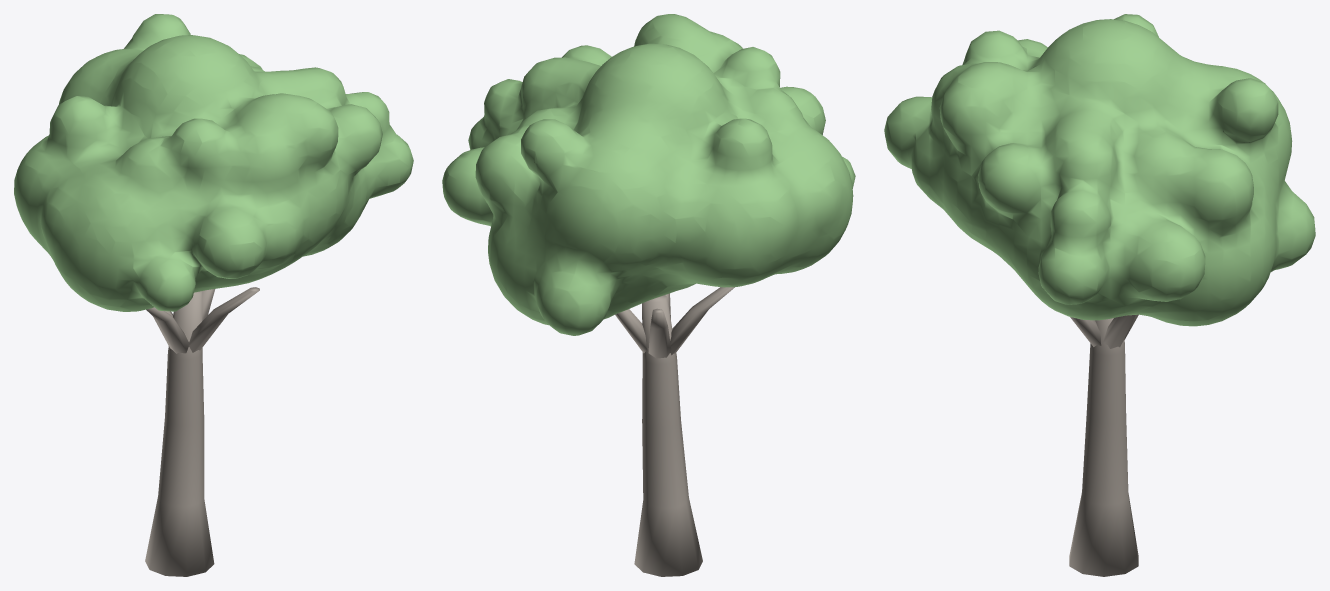
File: tree.glb
The picture shows the model from 3 angles, left to right: view 1: azimuth 30°, elevation 25°; view 2: azimuth 150°, elevation 25°; view 3: azimuth 270°, elevation 25°; orthographic projection. The views are drawn at different scales.
Parts seen in each view (by area): view 1: tree_canopy, tree_branch_0; view 2: tree_canopy, tree_branch_0; view 3: tree_canopy, tree_branch_0.
Boxes of the visible parts, left/top/right/bottom form: tree_canopy: left=14, top=14, right=413, bottom=311; tree_branch_0: left=145, top=287, right=259, bottom=576; tree_canopy: left=442, top=14, right=855, bottom=335; tree_branch_0: left=615, top=287, right=734, bottom=576; tree_canopy: left=884, top=14, right=1315, bottom=326; tree_branch_0: left=1069, top=314, right=1138, bottom=576.
Bounding box in the file's own units: 3.63 × 4.9 × 3.54.
